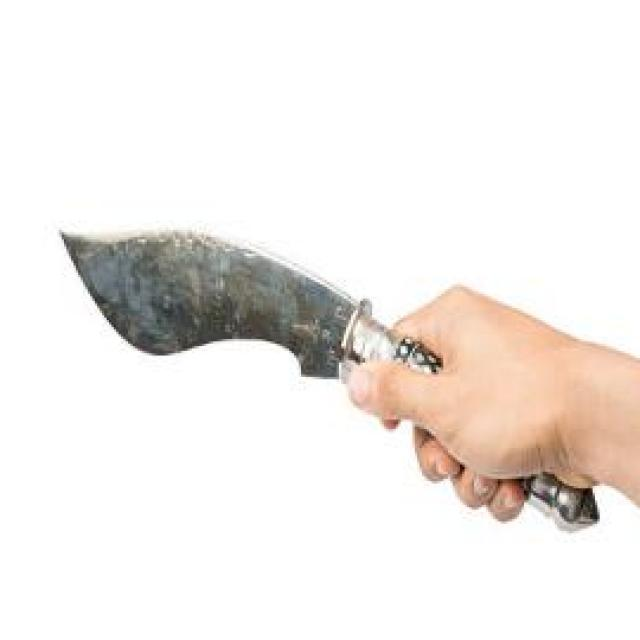knife: (41, 213, 604, 569)
